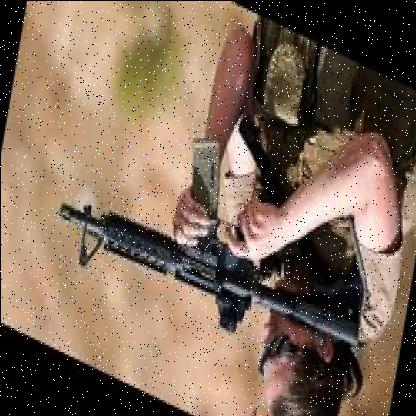rifle: (46, 80, 380, 382)
